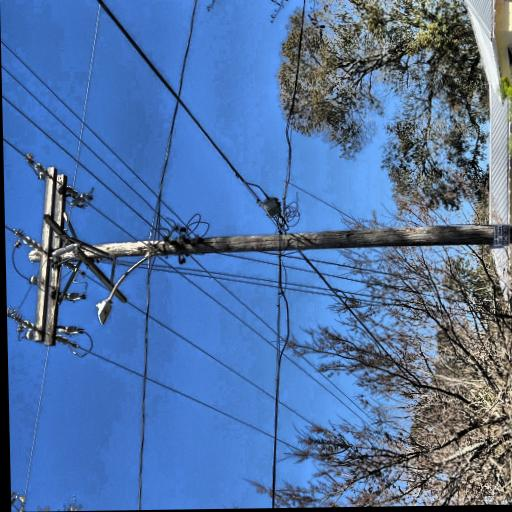insulator: (44, 132, 54, 142), (94, 136, 103, 147), (189, 147, 198, 157)
pole: (114, 133, 164, 510)
street light: (60, 210, 132, 289)
